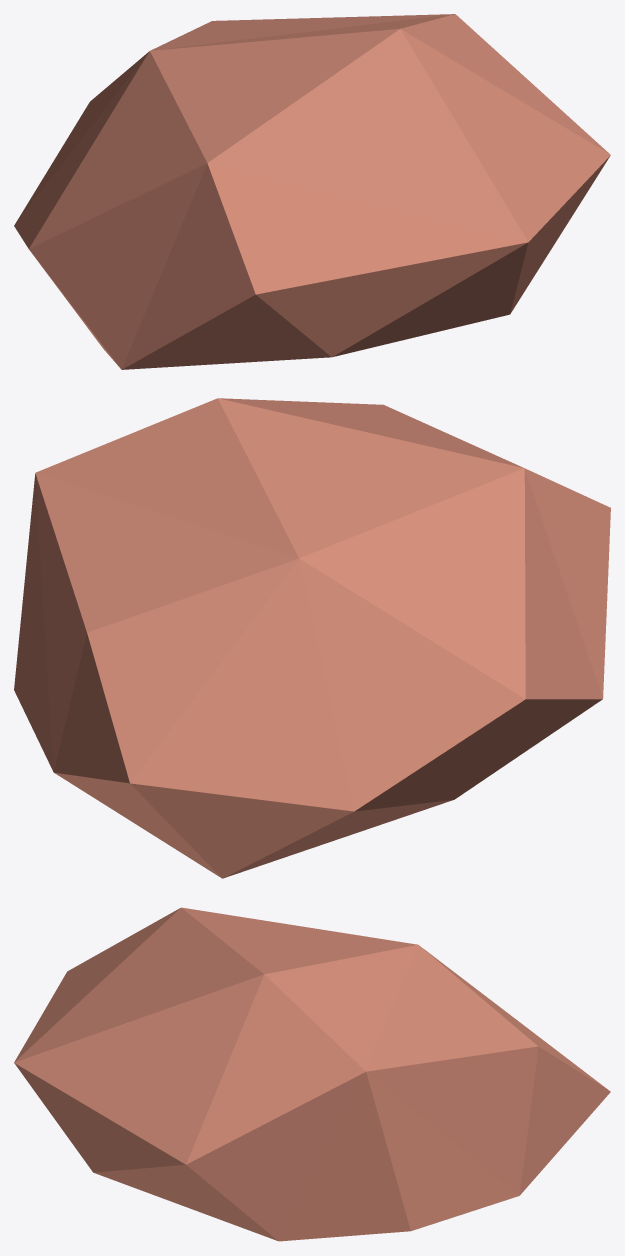
The model's file is stone_005.fbx.
3 renders of one model, top to bottom at view 1: azimuth 30°, elevation 25°; view 2: azimuth 150°, elevation 25°; view 3: azimuth 270°, elevation 25°, orthographic. The views are drawn at different scales.
Parts seen in each view (by area): view 1: stone_005; view 2: stone_005; view 3: stone_005.
Part boxes in pixels (x1=…): stone_005: x1=14, y1=14, x2=610, y2=369; stone_005: x1=14, y1=398, x2=610, y2=878; stone_005: x1=14, y1=907, x2=610, y2=1241.
Bounding box in the file's own units: 63.91 × 75.39 × 38.56.
